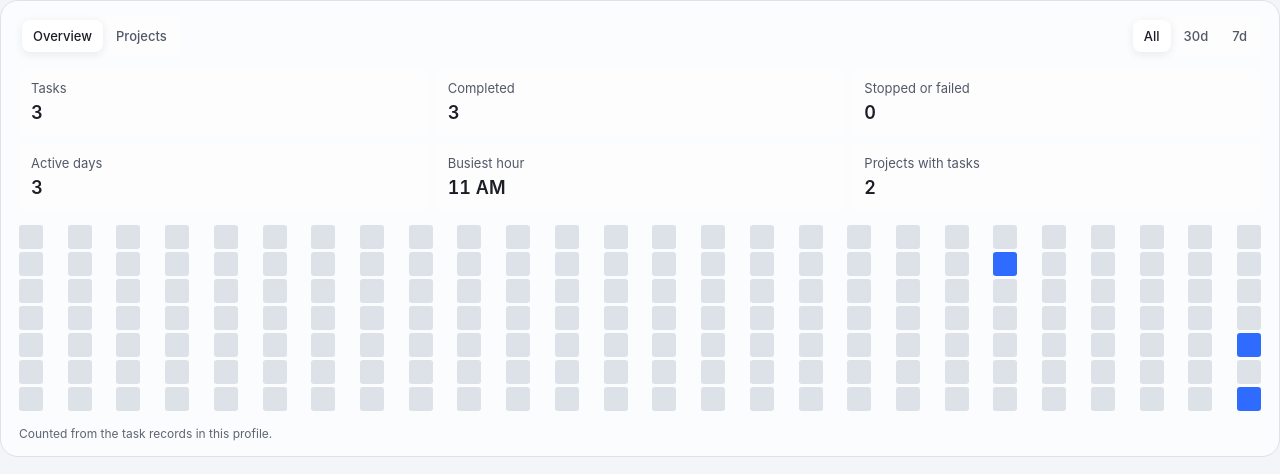
Scenario: ActivityOverview › says what the tasks add up to, for the period chosen
Expected: the picture named "Tasks per day over the last 26 weeks" is shown, [19,225,1261,411]
Click the button "7d": (1240, 36) [1221,20,1258,52]
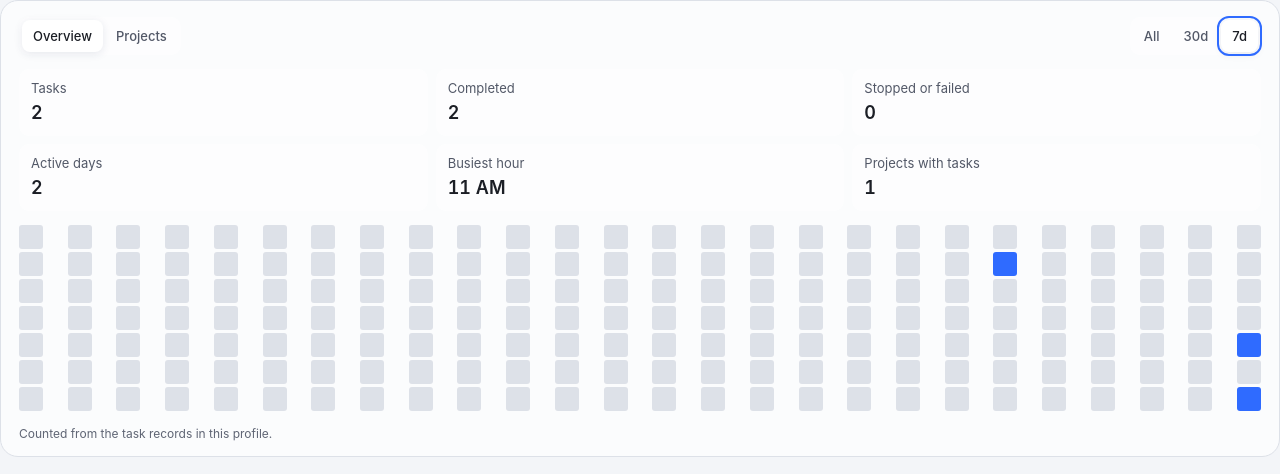
Expected: the button "7d" is pressed, [1221,20,1258,52]
Click the button "Projects": (141, 36) [105,20,178,52]
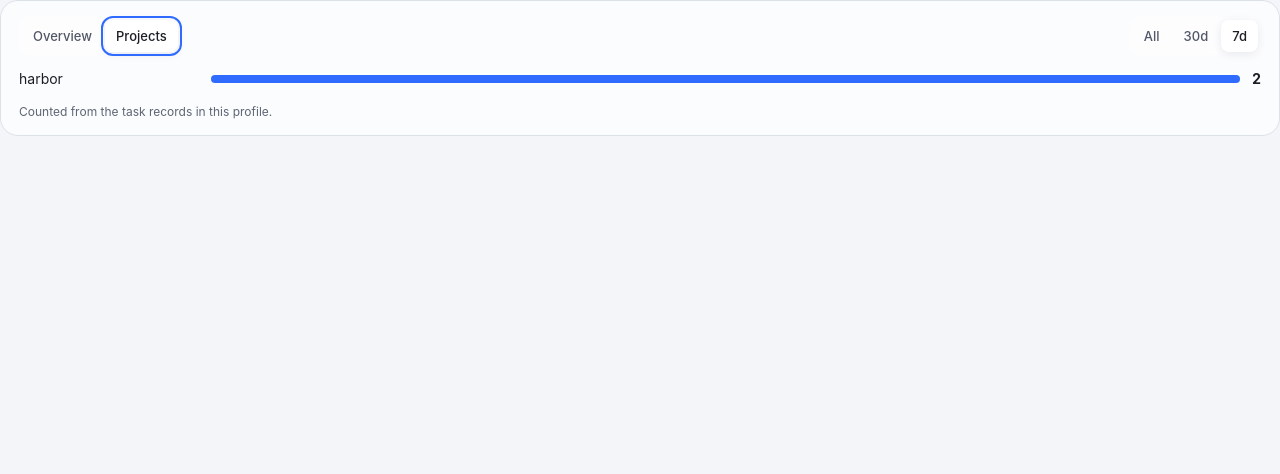
Expected: the list items read "harbor2", in this order, [19,69,1261,89]
